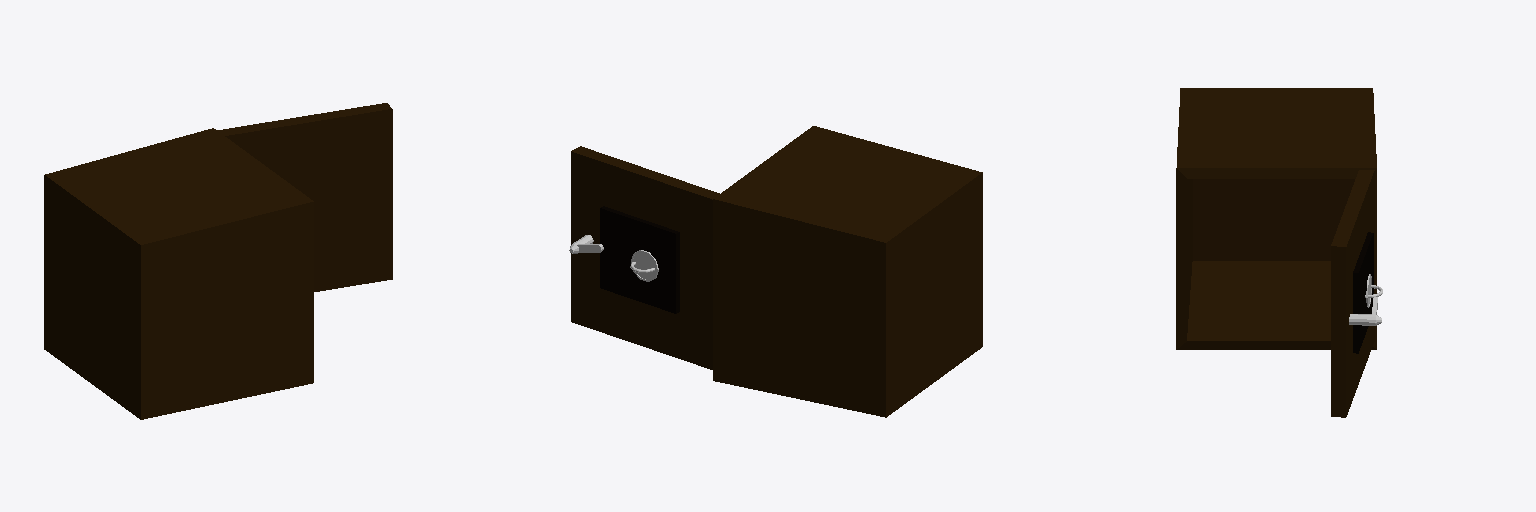
The model's file is kluisopen.obj.
The picture shows the model from 3 angles: view 1: azimuth 30°, elevation 25°; view 2: azimuth 150°, elevation 25°; view 3: azimuth 270°, elevation 25°; orthographic projection.
Visible parts, largest first — view 1: Cube_Cube.001, Plane; view 2: Cube_Cube.001, Plane, Circle; view 3: Cube_Cube.001, Plane.
Part boxes in pixels (bbox=[...]): Cube_Cube.001: bbox=[44, 128, 313, 419]; Plane: bbox=[217, 103, 392, 291]; Cube_Cube.001: bbox=[713, 126, 982, 417]; Plane: bbox=[571, 146, 719, 369]; Circle: bbox=[631, 250, 658, 281]; Cube_Cube.001: bbox=[1176, 88, 1376, 349]; Plane: bbox=[1331, 170, 1374, 417].
Size of the model in its own units: 3.34 by 1.76 by 1.82.